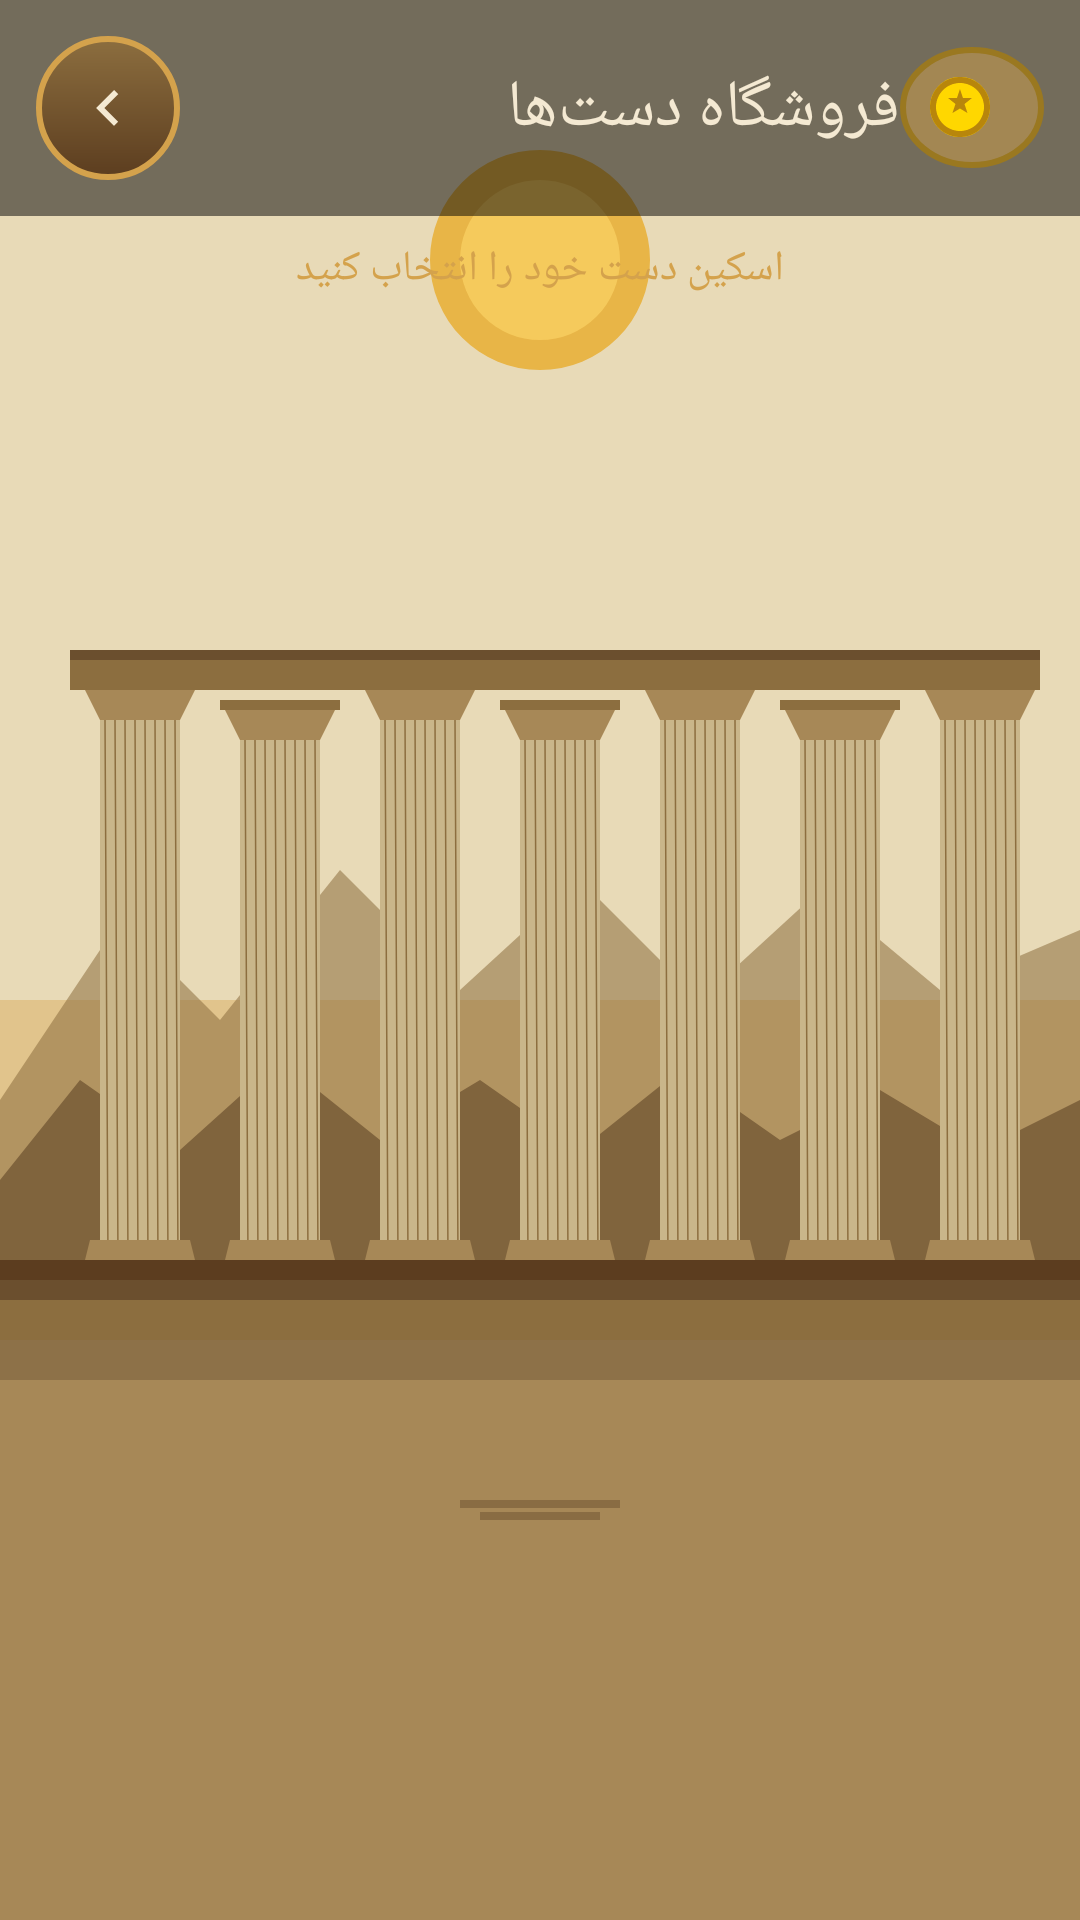

Icon bounding boxes for this 1080*1920 phone screenshot, format (x1, y1, x2, y2):
back: (36, 36, 180, 180)
coin: (930, 77, 990, 137)
